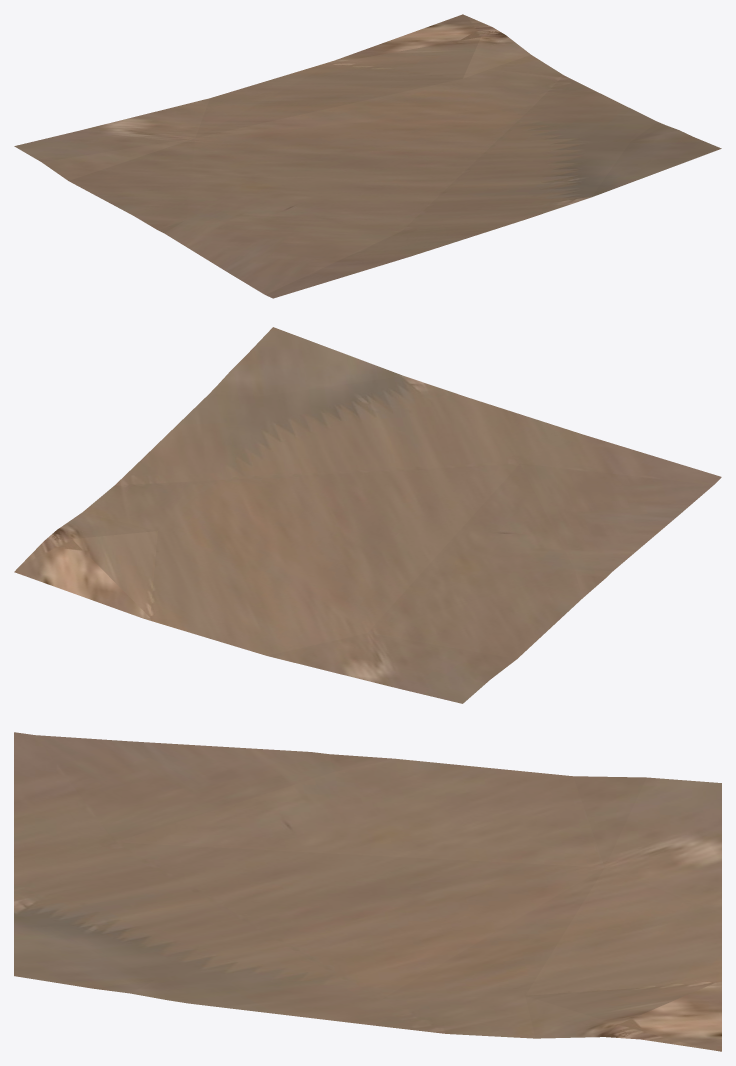
3 views of the same model, one above another, from view 1: azimuth 30°, elevation 25°; view 2: azimuth 150°, elevation 25°; view 3: azimuth 270°, elevation 25° (orthographic). The views are drawn at different scales.
Size of the model in its own units: 2.09 by 0.3474 by 2.09.
Materials: 3 (3 with a texture image).
